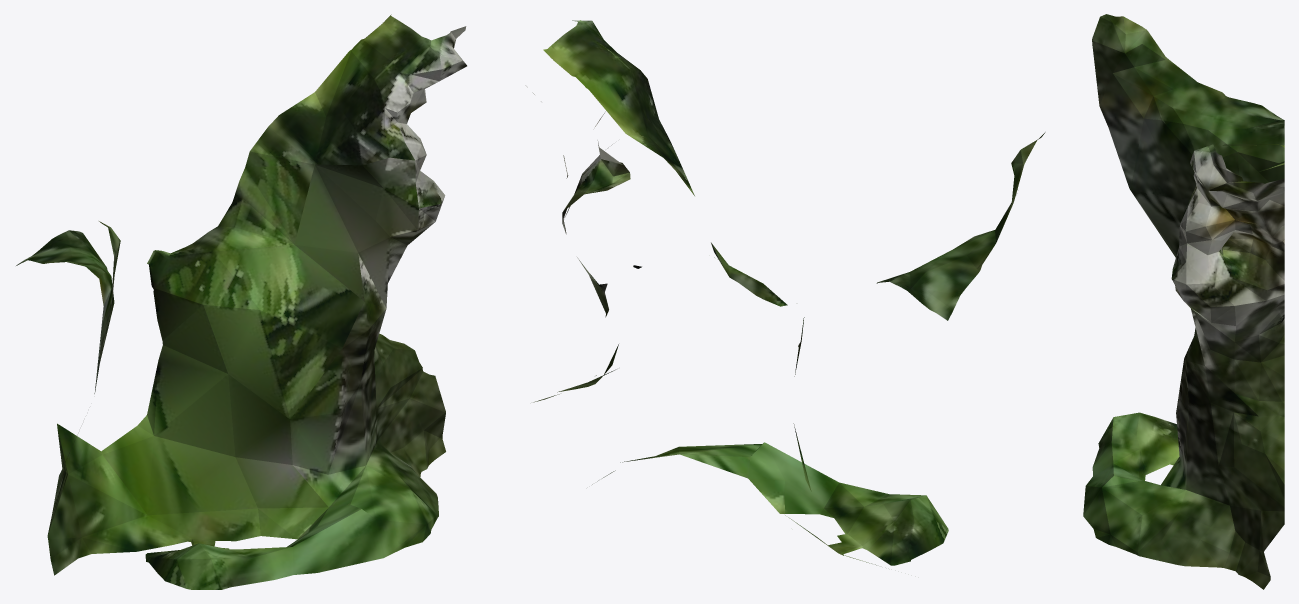
The picture shows the model from 3 angles, left to right: view 1: azimuth 30°, elevation 25°; view 2: azimuth 150°, elevation 25°; view 3: azimuth 270°, elevation 25°; orthographic projection. The views are drawn at different scales.
Size of the model in its own units: 0.8374 by 0.8374 by 0.3589.
Materials: 3 (3 with a texture image).
